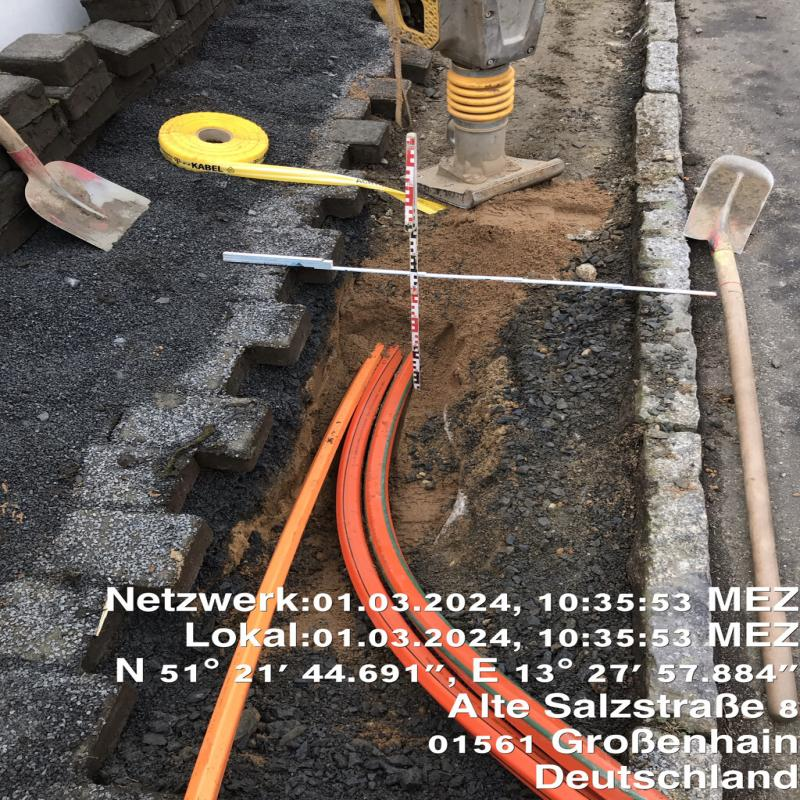Orang-Speednetrohrchen: (177, 348, 668, 800)
